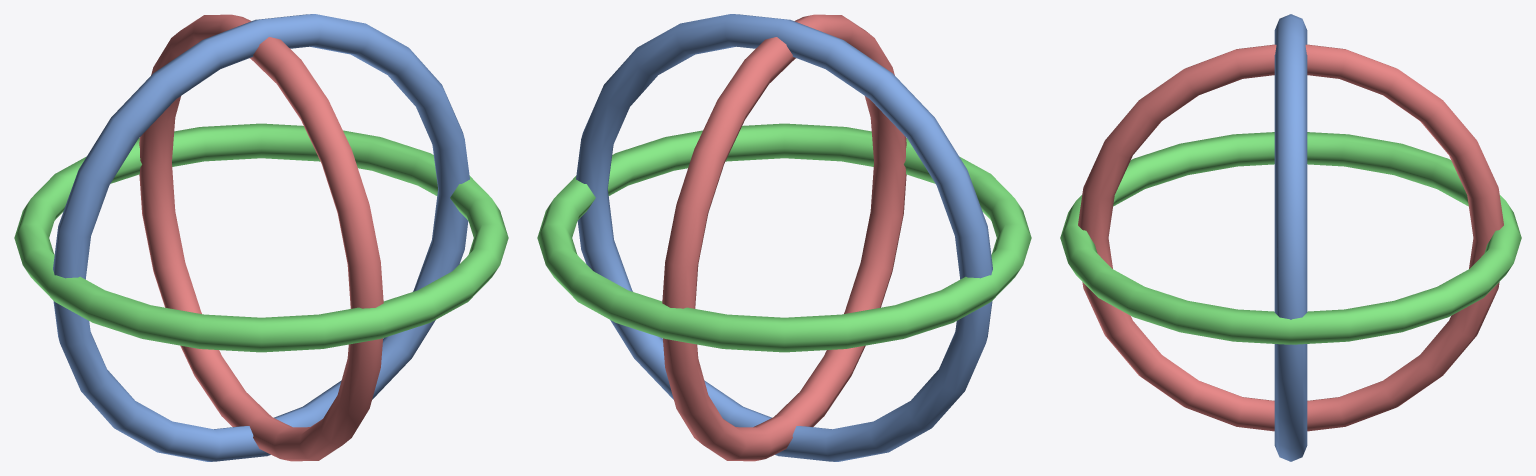
File: Gizmo_Rotate.fbx
3 renders of one model, left to right at view 1: azimuth 30°, elevation 25°; view 2: azimuth 150°, elevation 25°; view 3: azimuth 270°, elevation 25°, orthographic. The views are drawn at different scales.
Parts seen in each view (by area): view 1: RotateGizmo_Z, RotateGizmo_Y, RotateGizmo_X; view 2: RotateGizmo_Z, RotateGizmo_Y, RotateGizmo_X; view 3: RotateGizmo_X, RotateGizmo_Y, RotateGizmo_Z.
Part boxes in pixels (<box>): RotateGizmo_Z: <box>53,14,469,461</box>; RotateGizmo_Y: <box>14,123,508,352</box>; RotateGizmo_X: <box>139,14,383,461</box>; RotateGizmo_Z: <box>576,14,992,461</box>; RotateGizmo_Y: <box>537,123,1031,352</box>; RotateGizmo_X: <box>662,14,906,461</box>; RotateGizmo_X: <box>1078,44,1503,431</box>; RotateGizmo_Y: <box>1060,132,1521,344</box>; RotateGizmo_Z: <box>1274,14,1307,461</box>.
Bounding box in the file's own units: 624 × 608 × 624.
